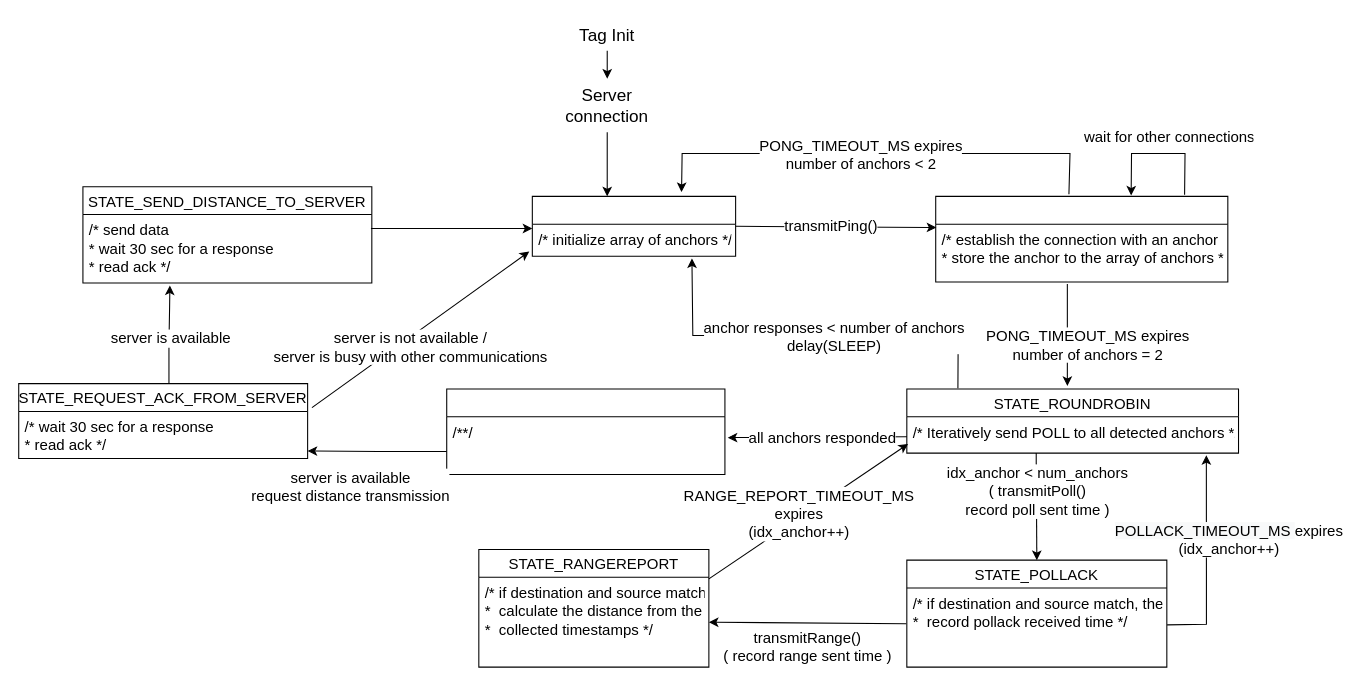
Image size: 1361x688. Some labels were removed from this diagram. Here are the shapes that lost their labels. From the top down, the box of each, then its label:
(531, 195, 736, 256): STATE_SCAN
(935, 195, 1228, 282): STATE_PONG
(446, 388, 725, 475): STATE_SEND_REQUEST_TO_SERVER
